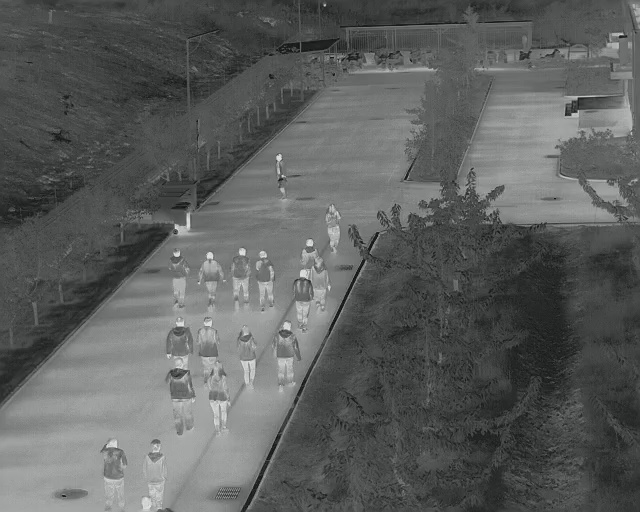person: (166, 357, 197, 436), (99, 436, 130, 511), (141, 437, 171, 511), (271, 320, 301, 393), (206, 360, 232, 437), (196, 249, 226, 311), (233, 323, 259, 391), (254, 249, 279, 312), (289, 268, 314, 330), (168, 247, 191, 308), (323, 202, 348, 252), (231, 247, 250, 309), (275, 152, 289, 202)
